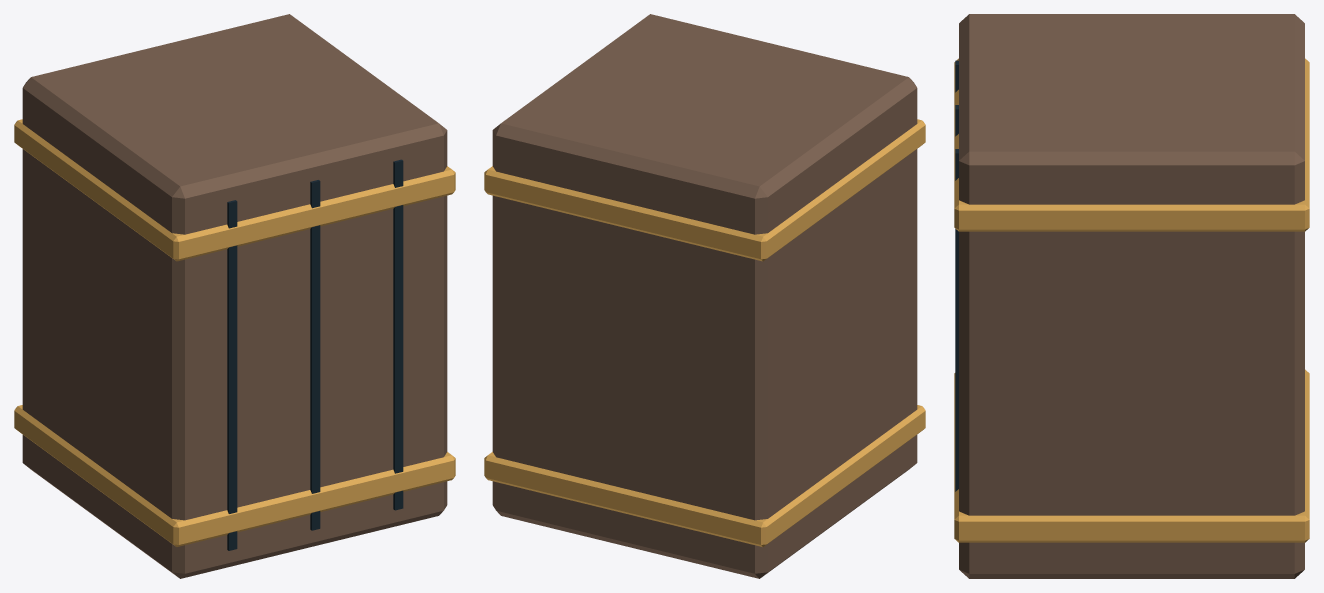
File: timber.glb
3 renders of one model, left to right at view 1: azimuth 30°, elevation 25°; view 2: azimuth 150°, elevation 25°; view 3: azimuth 270°, elevation 25°, orthographic. The views are drawn at different scales.
Parts seen in each view (by area): view 1: timber_solid; view 2: timber_solid; view 3: timber_solid.
Boxes of the visible parts, <box> form: timber_solid: <box>14,14,455,578</box>; timber_solid: <box>484,14,925,578</box>; timber_solid: <box>954,14,1309,578</box>.
Bounding box in the file's own units: 1.19 × 1.58 × 1.19.
